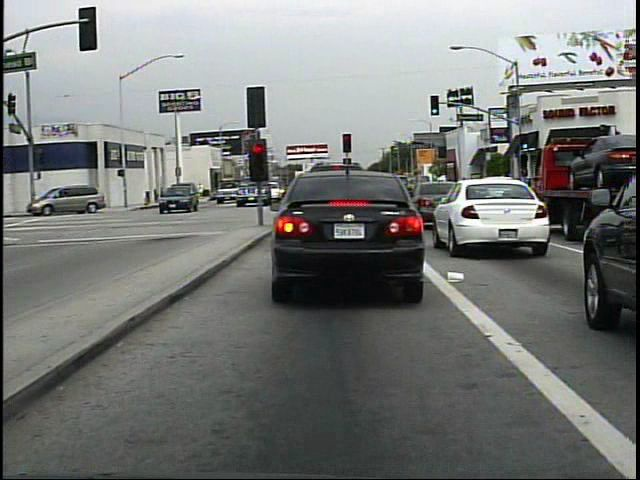person: (198, 180, 206, 203)
